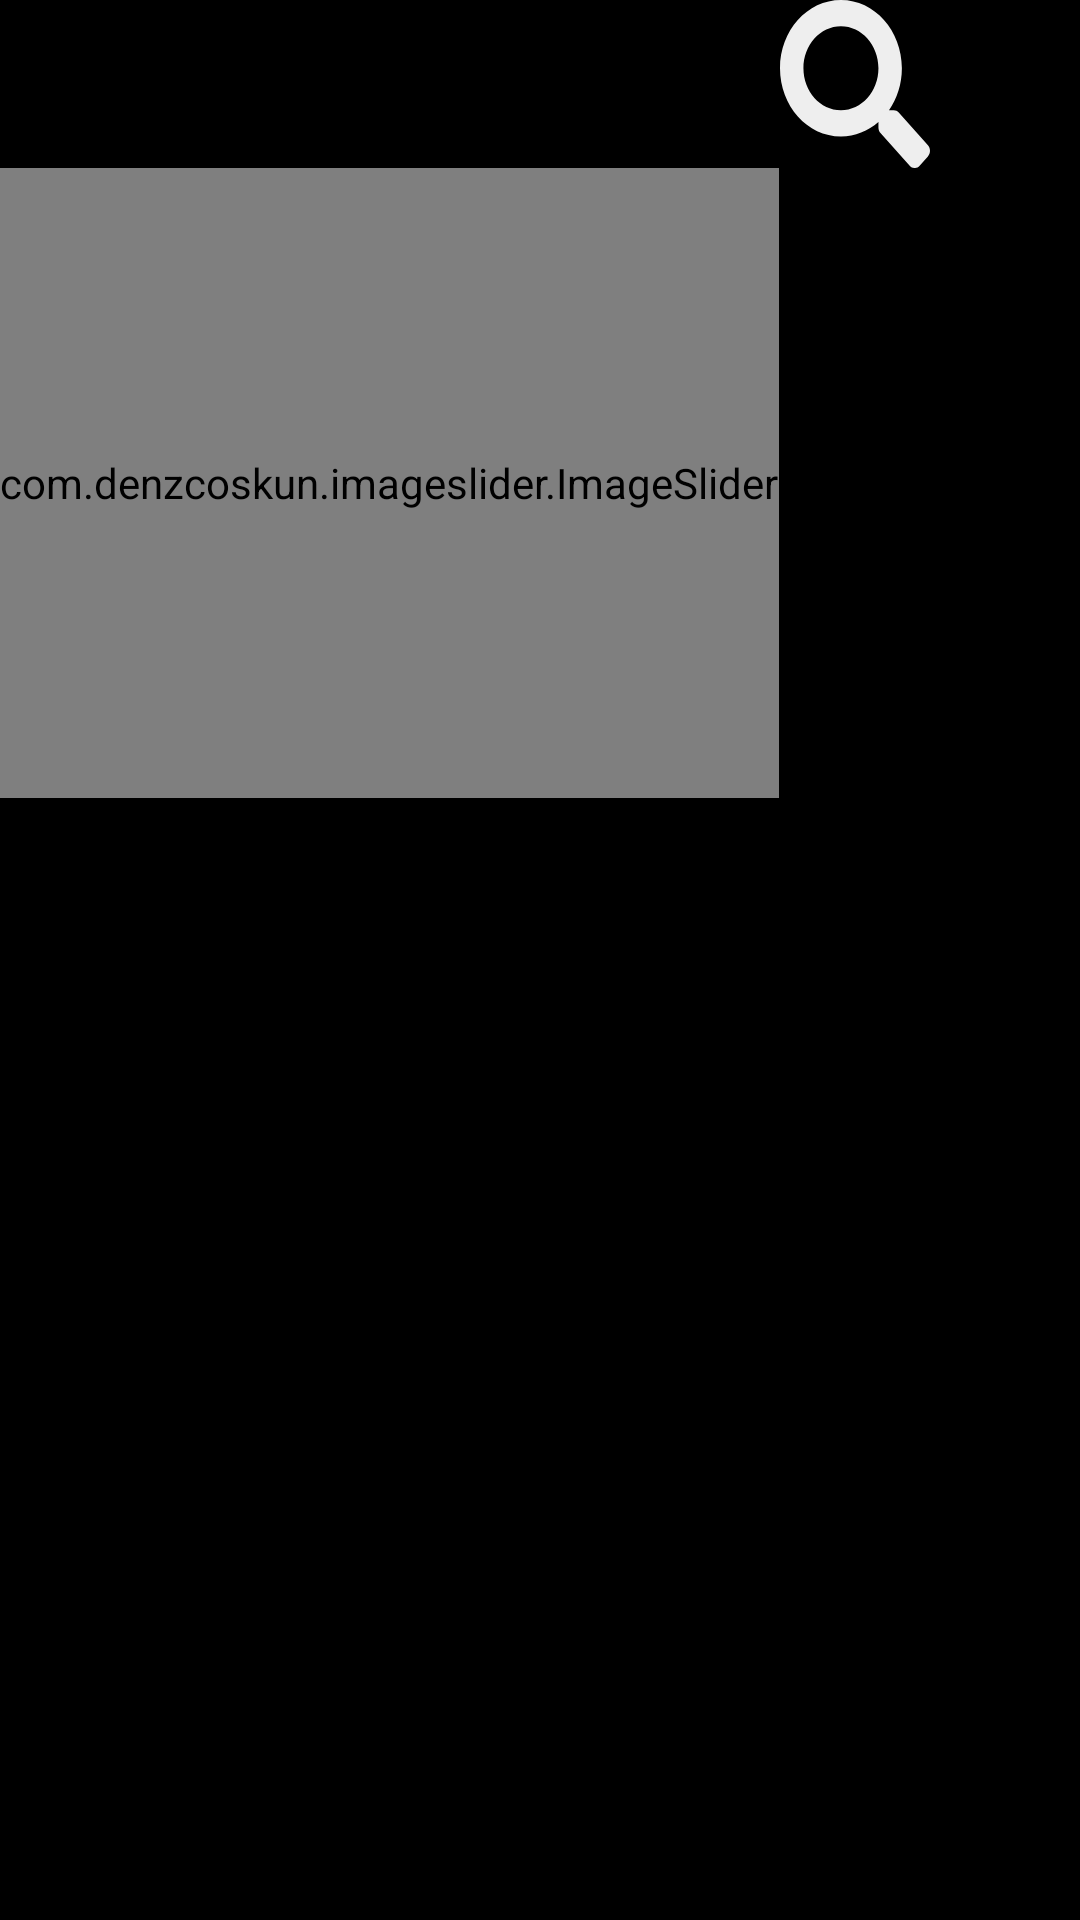

Screen size 1080px×1920px. Icon name, then its box in pixels as detection(x1, y1, x2, y2):
search: detection(780, 0, 930, 168)
